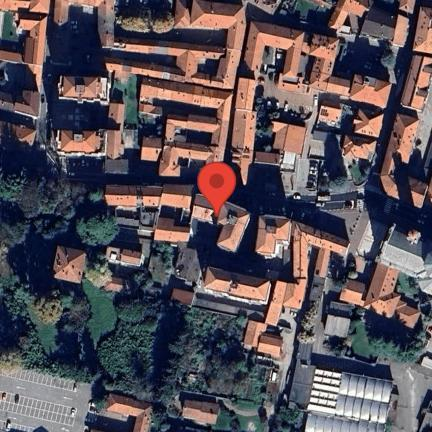area_open: (3, 364, 90, 432), (246, 279, 304, 361), (257, 85, 312, 151), (309, 136, 351, 187), (53, 31, 102, 67), (258, 210, 292, 259)
built: (135, 75, 232, 175), (243, 24, 342, 93), (303, 367, 392, 432), (189, 190, 252, 255), (333, 0, 411, 48), (365, 261, 421, 327), (0, 0, 50, 66), (198, 267, 273, 307), (1, 66, 42, 122), (93, 396, 156, 432), (179, 0, 244, 32), (398, 61, 432, 114), (53, 0, 113, 27), (177, 398, 221, 428), (350, 75, 390, 108), (59, 74, 105, 102), (55, 126, 102, 153), (105, 186, 165, 207), (351, 108, 386, 141), (52, 246, 83, 283), (413, 4, 432, 57), (315, 104, 343, 131), (117, 248, 150, 269), (16, 128, 36, 148)
vegetation_high: (0, 252, 163, 393), (170, 307, 267, 398), (2, 171, 116, 245), (355, 318, 420, 364), (119, 0, 175, 31)
